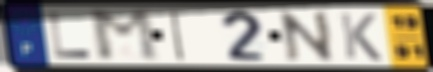2: (218, 9, 273, 64)
I: (168, 8, 187, 63)
K: (337, 11, 385, 62)
L: (46, 10, 96, 60)
M: (86, 8, 164, 63)
N: (275, 10, 337, 63)
